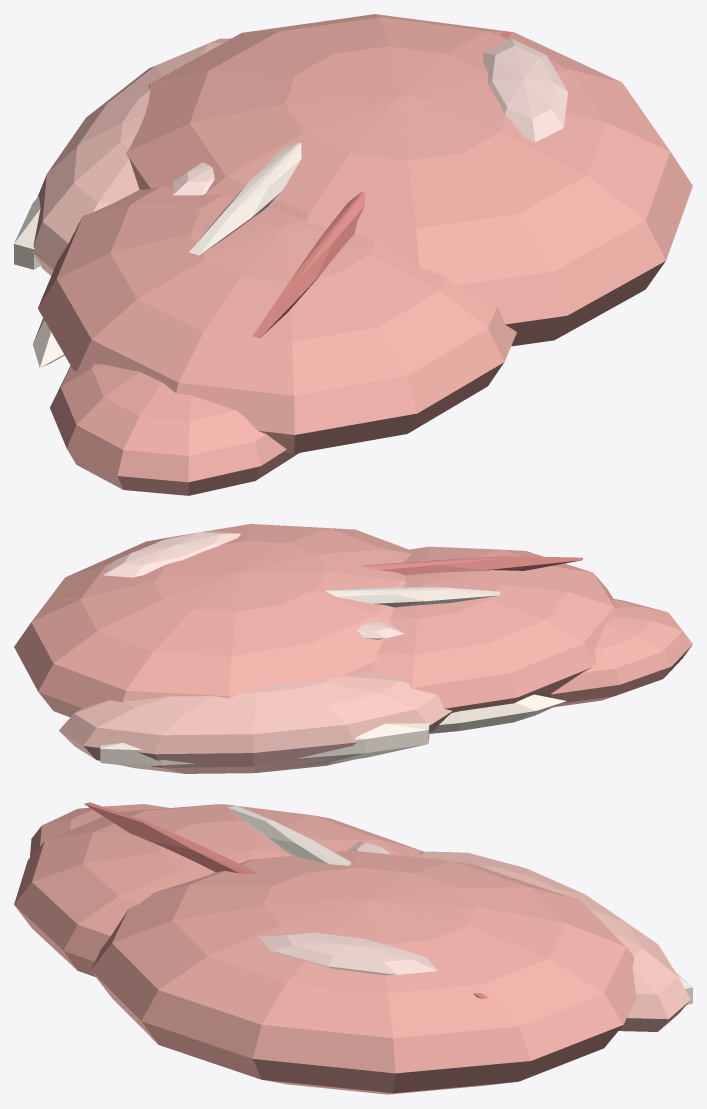
Rendered from chicken_raw.glb.
3 renders of one model, top to bottom at view 1: azimuth 30°, elevation 25°; view 2: azimuth 150°, elevation 25°; view 3: azimuth 270°, elevation 25°, orthographic. The views are drawn at different scales.
Parts seen in each view (by area): view 1: ChickenRaw; view 2: ChickenRaw; view 3: ChickenRaw.
Boxes of the visible parts, x1=… form: ChickenRaw: x1=14, y1=14, x2=692, y2=495; ChickenRaw: x1=14, y1=524, x2=692, y2=773; ChickenRaw: x1=14, y1=802, x2=692, y2=1094.
Bounding box in the file's own units: 3 × 0.7 × 3.
